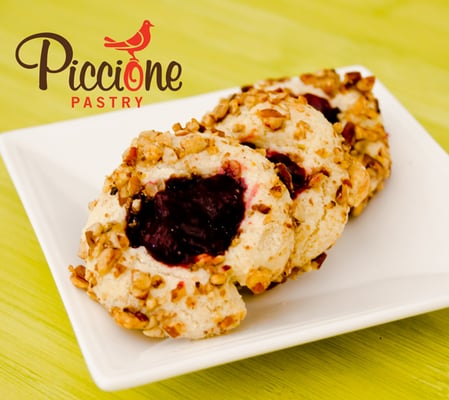curry: (1, 4, 445, 389)
